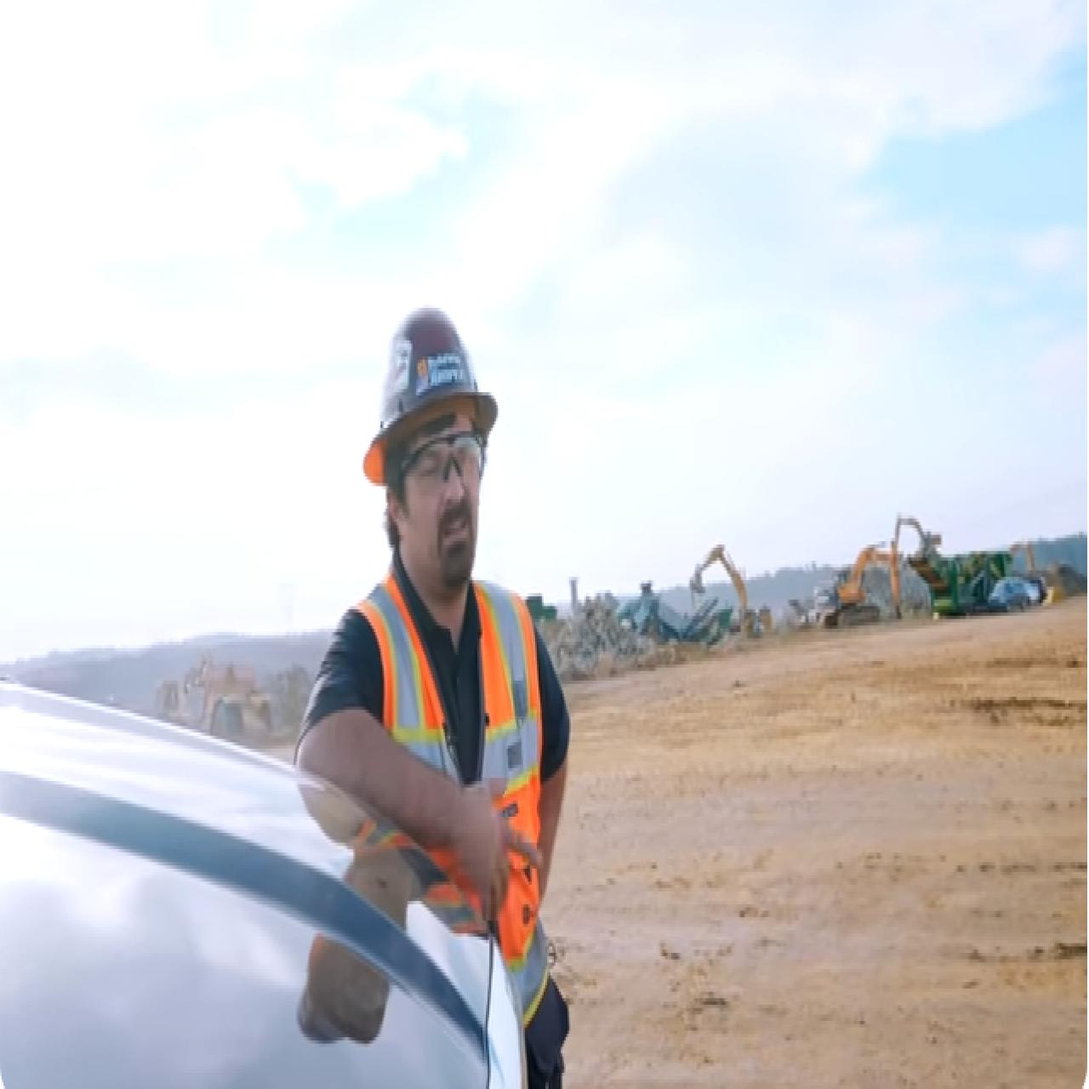Person: (312, 249, 586, 1089)
Safety_Vest: (355, 578, 548, 1006)
